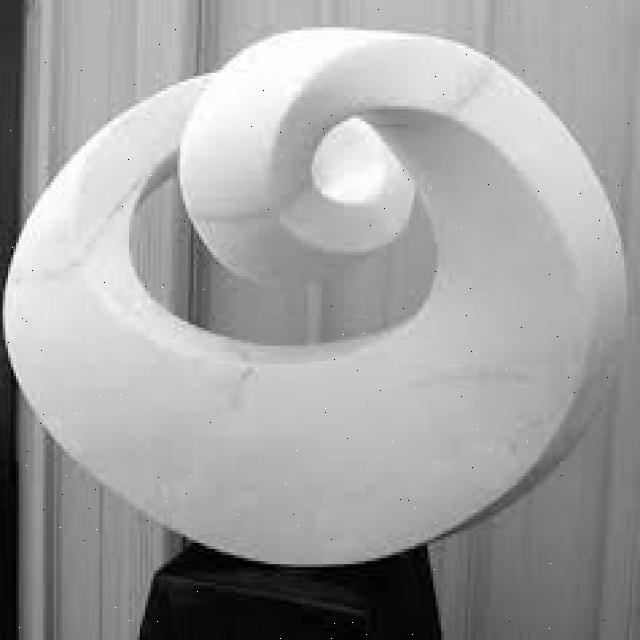Metamorphic: (3, 24, 629, 564)
